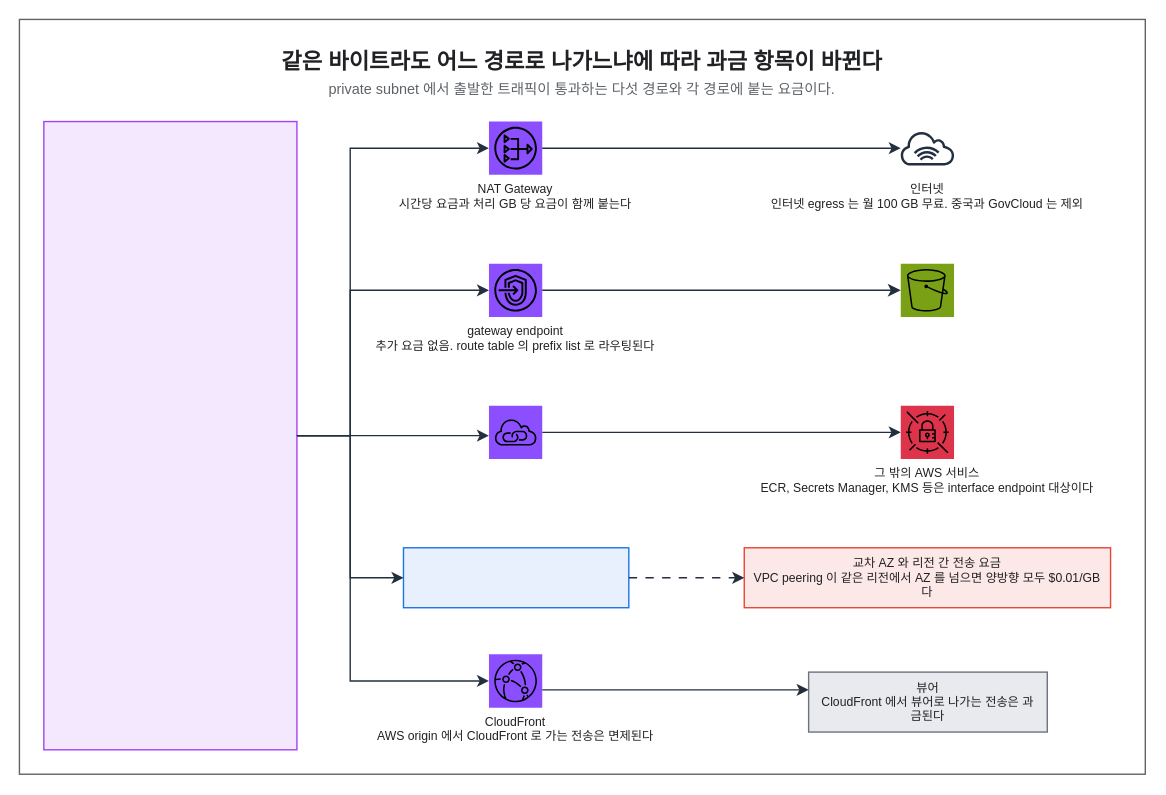
Some shapes in this 1166 by 795 pixel diagram are drawn without their labels. The shapes that lost their labels are listed below. From the top down, each one's box as (x1, y1, x2, y2) in pixels, then its label:
(900, 263, 953, 316): 같은 리전의 S3 와 DynamoDB gateway endpoint 가 지원하는 유일한 두 서비스
(43, 120, 297, 750): private subnet 의 EC2 와 ECS 같은 AZ 안의 private IP 통신은 과금되지 않는다
(488, 405, 542, 458): interface endpoint AZ 당 provisioned 시간 요금과 처리 GB 당 요금
(402, 547, 629, 608): 다른 AZ 또는 다른 리전 AZ 경계와 리전 경계를 넘으면 전송 요금이 붙는다
